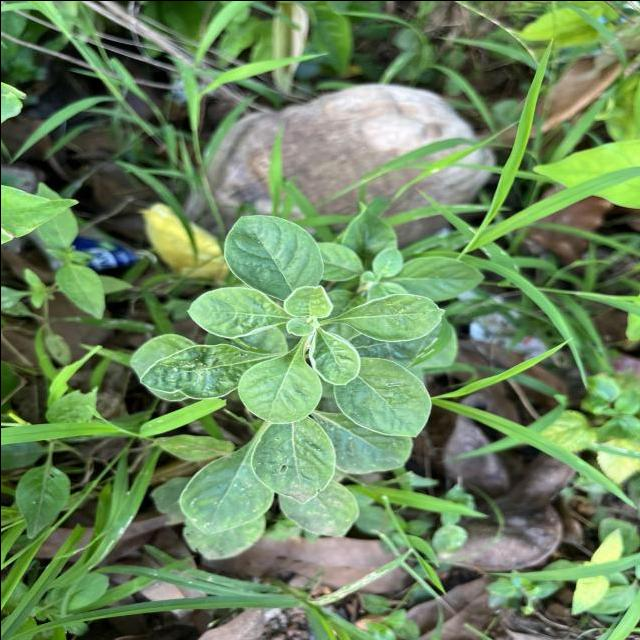Aerva lanata: (221, 212, 326, 304), (329, 355, 433, 439), (234, 350, 324, 426), (332, 290, 448, 343), (183, 284, 289, 342), (307, 323, 362, 388)
